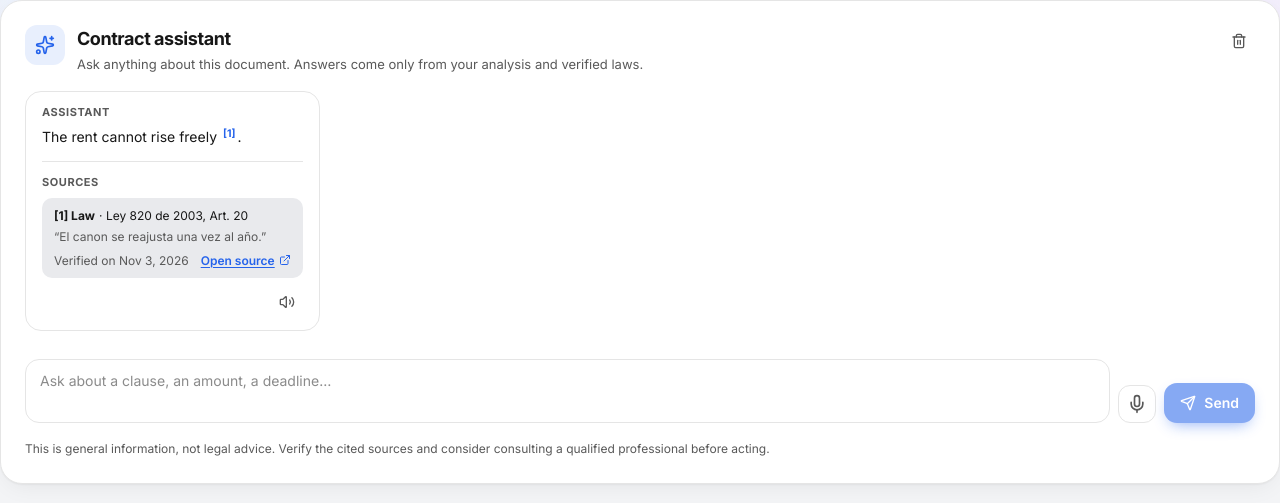
Test: AssistantPanel › clears the conversation
Click the button named "Clear conversation".
click(1239, 41)  # box [1223,25,1255,57]
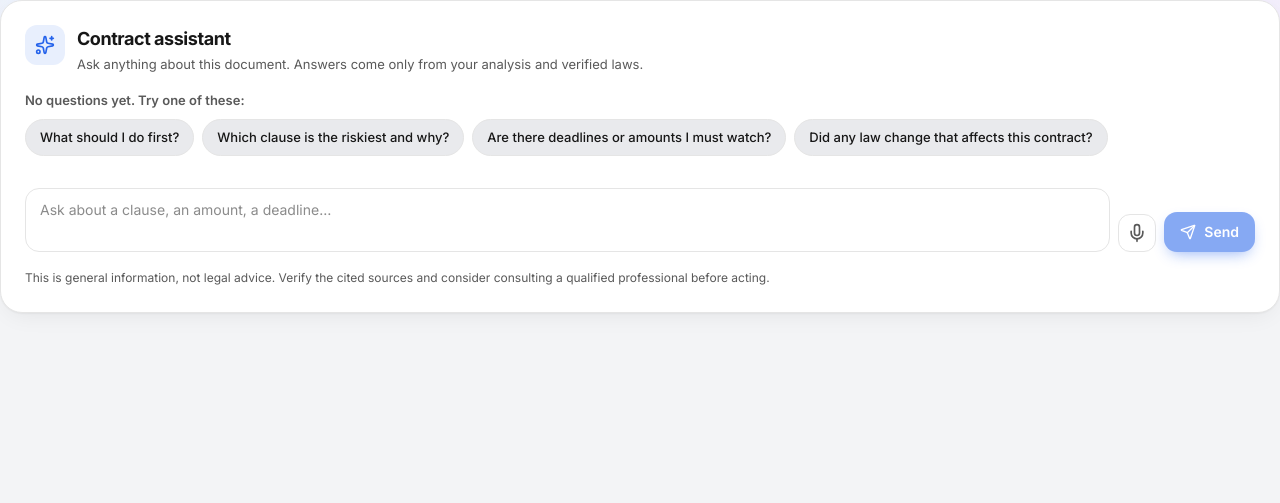
Now the text "The rent cannot rise freely" is gone
